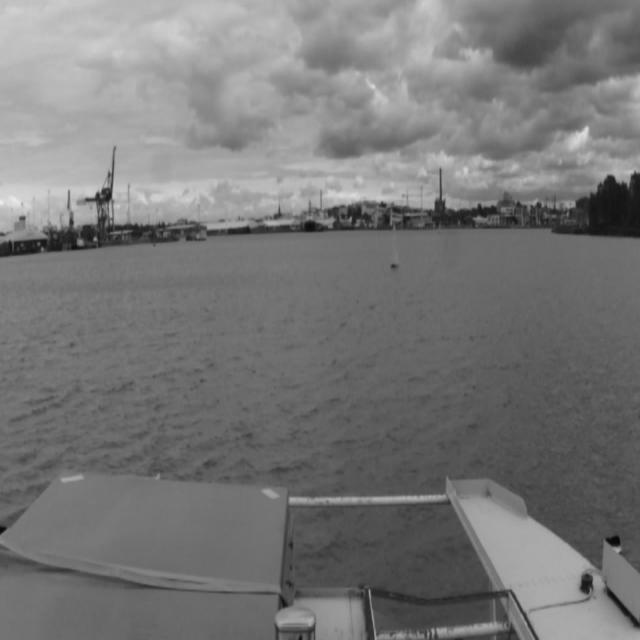buoy: (392, 226, 398, 266), (437, 219, 442, 237)
ship: (303, 201, 316, 230)
